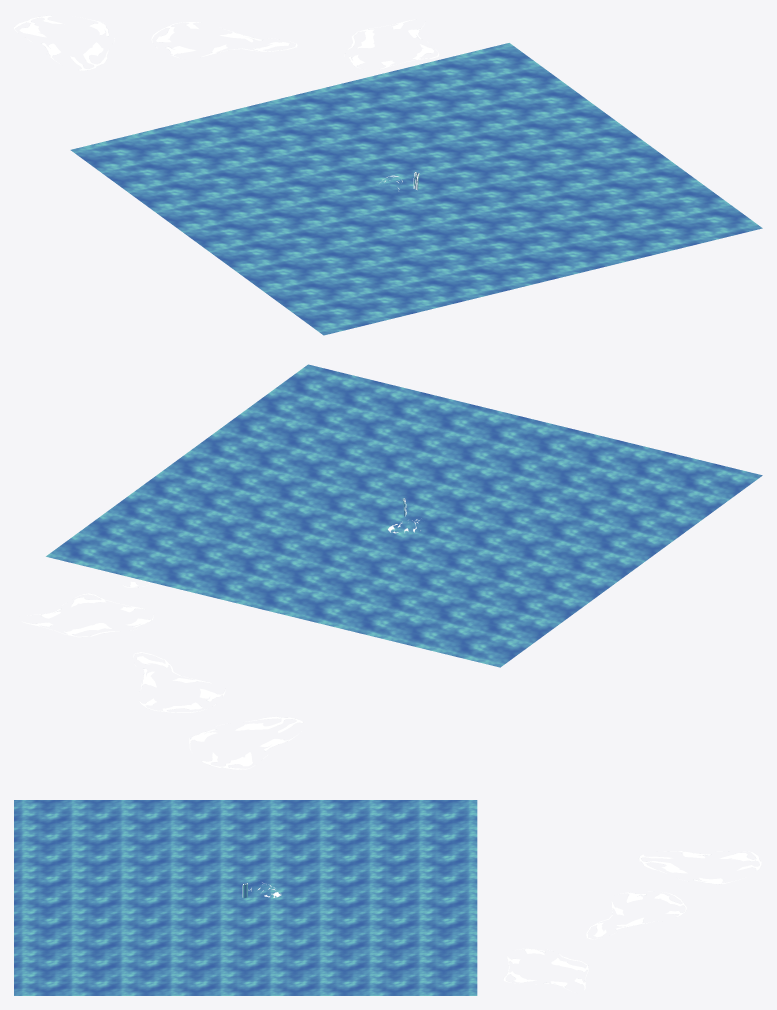
The model's file is level_2_water_applied.gltf.
3 views of the same model, one above another, from view 1: azimuth 30°, elevation 25°; view 2: azimuth 150°, elevation 25°; view 3: azimuth 270°, elevation 25° (orthographic). The views are drawn at different scales.
Parts seen in each view (by area): view 1: water_level_2_base, foam_island_shape_1, foam_island_shape_2, foam_island_shape_3; view 2: water_level_2_base, foam_island_shape_1, foam_island_shape_2, foam_island_shape_3; view 3: water_level_2_base, foam_island_shape_1, foam_island_shape_2, foam_island_shape_3.
Boxes of the visible parts, bbox=[...] form: water_level_2_base: bbox=[70, 43, 762, 335]; foam_island_shape_1: bbox=[14, 16, 114, 70]; foam_island_shape_2: bbox=[151, 22, 297, 58]; foam_island_shape_3: bbox=[344, 19, 438, 69]; water_level_2_base: bbox=[46, 364, 762, 667]; foam_island_shape_1: bbox=[189, 716, 303, 769]; foam_island_shape_2: bbox=[133, 652, 225, 712]; foam_island_shape_3: bbox=[21, 593, 153, 637]; water_level_2_base: bbox=[14, 800, 477, 995]; foam_island_shape_1: bbox=[639, 851, 761, 884]; foam_island_shape_2: bbox=[586, 891, 686, 939]; foam_island_shape_3: bbox=[503, 948, 588, 991].
Bounding box in the file's own units: 374 × 64.38 × 605.
7 materials, 7 textured.
